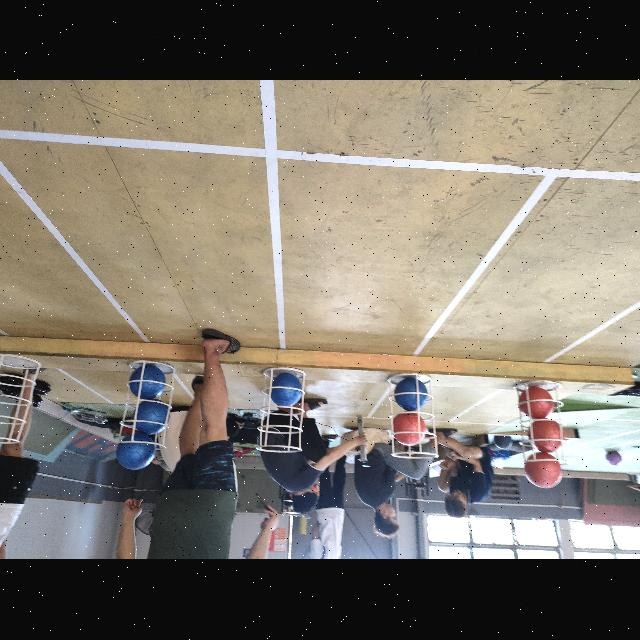B: (115, 434, 159, 472), (127, 364, 169, 400), (394, 378, 428, 414), (132, 401, 172, 431), (268, 374, 304, 406)
R: (523, 452, 565, 491), (526, 420, 566, 452), (516, 386, 556, 418), (392, 414, 428, 446)
